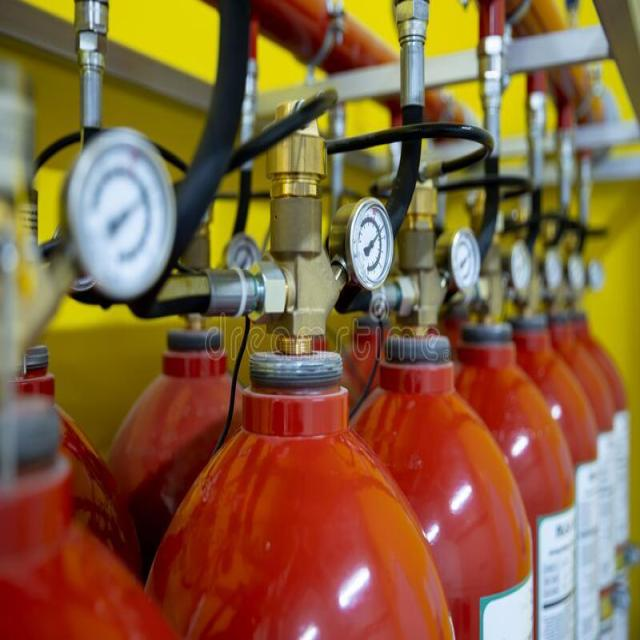fire_extinguisher: (130, 90, 473, 639), (288, 143, 542, 639), (368, 215, 581, 639)
